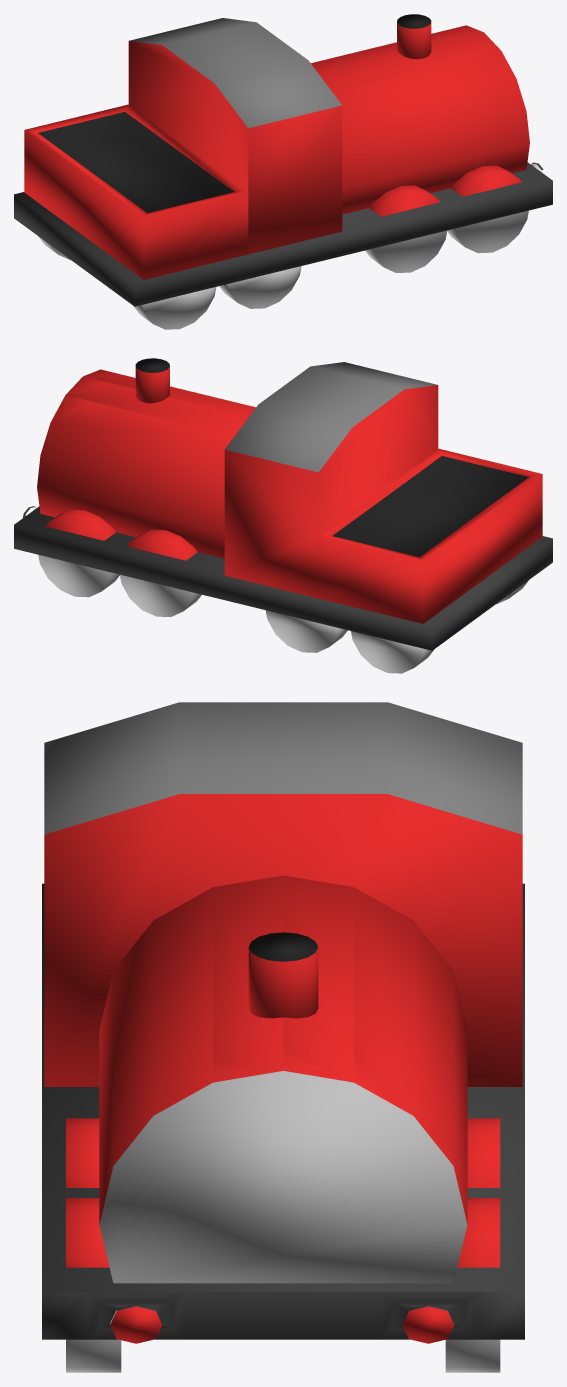
Rendered from train.obj.
3 views of the same model, one above another, from view 1: azimuth 30°, elevation 25°; view 2: azimuth 150°, elevation 25°; view 3: azimuth 270°, elevation 25° (orthographic). The views are drawn at different scales.
Visible parts, largest first — view 1: cab, boiler, base, wheels, funnel; view 2: cab, boiler, base, wheels, funnel; view 3: boiler, cab, base, wheels, funnel.
Boxes of the visible parts, bbox=[...] form: cab: bbox=[24, 18, 342, 279]; boiler: bbox=[311, 25, 529, 214]; base: bbox=[14, 162, 552, 306]; wheels: bbox=[38, 165, 528, 329]; funnel: bbox=[397, 14, 431, 59]; cab: bbox=[224, 362, 542, 623]; boiler: bbox=[37, 369, 255, 558]; base: bbox=[14, 506, 552, 650]; wheels: bbox=[38, 509, 528, 673]; funnel: bbox=[135, 358, 169, 403]; boiler: bbox=[99, 875, 467, 1283]; cab: bbox=[44, 702, 522, 1086]; base: bbox=[42, 883, 524, 1343]; wheels: bbox=[66, 1118, 500, 1372]; funnel: bbox=[248, 932, 318, 1018].
Size of the model in its own units: 4.09 by 1.92 by 2.
